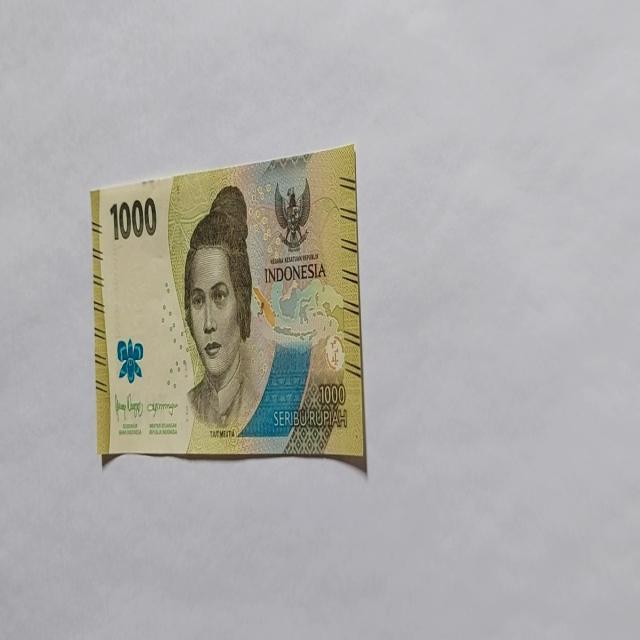seribu rupiah kertas: (90, 142, 366, 471)
